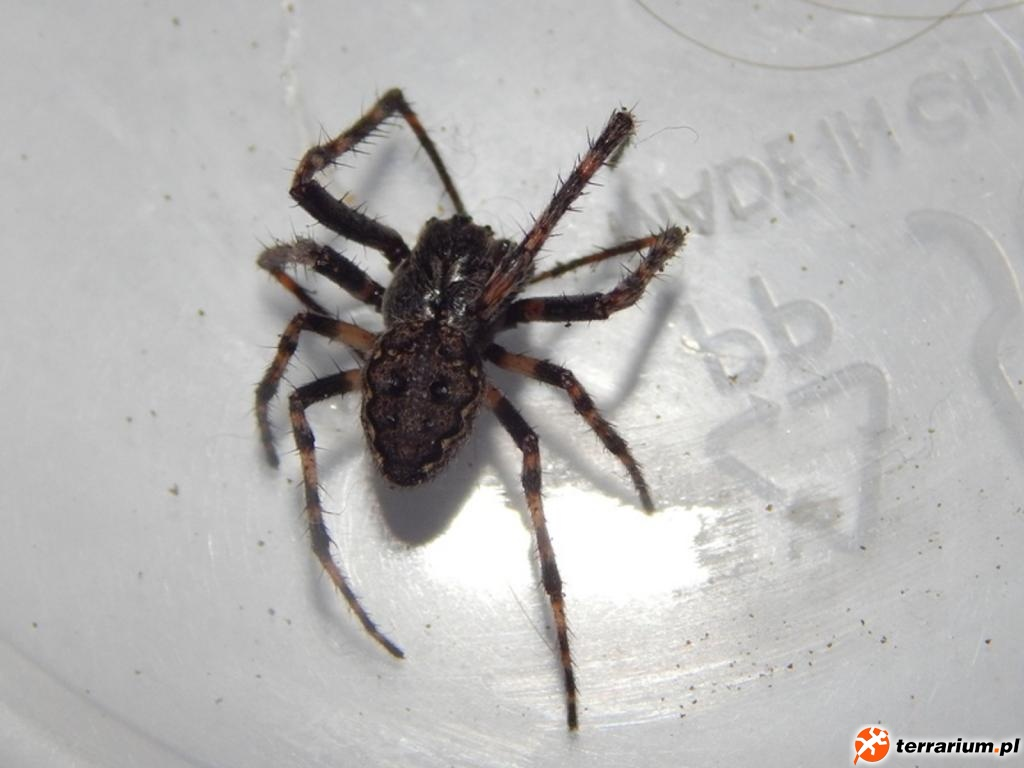spider: (190, 28, 726, 733)
